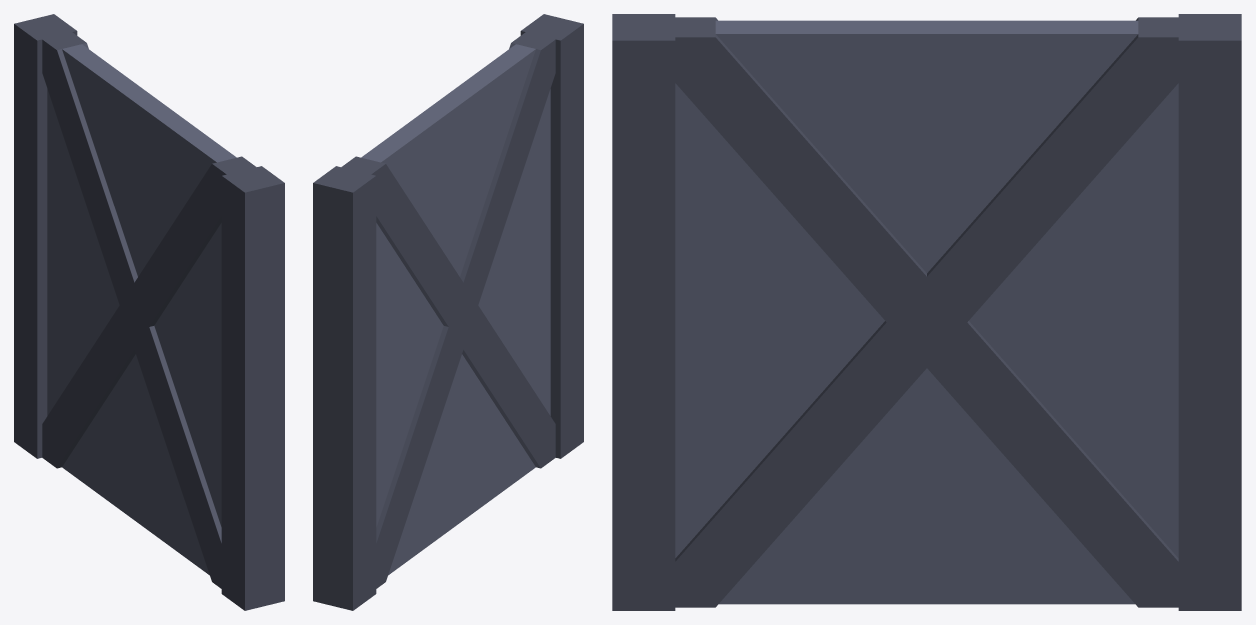
File: wall-wood-detail-cross.glb
The picture shows the model from 3 angles, left to right: view 1: azimuth 30°, elevation 25°; view 2: azimuth 150°, elevation 25°; view 3: azimuth 270°, elevation 25°; orthographic projection. The views are drawn at different scales.
Visible parts, largest first — view 1: wall-wood-detail-cross; view 2: wall-wood-detail-cross; view 3: wall-wood-detail-cross.
Boxes of the visible parts, bbox=[...] form: wall-wood-detail-cross: bbox=[14, 14, 284, 610]; wall-wood-detail-cross: bbox=[313, 14, 583, 610]; wall-wood-detail-cross: bbox=[612, 14, 1241, 610].
Size of the model in its own units: 0.1 by 1 by 1.
Materials: 1 (1 with a texture image).
